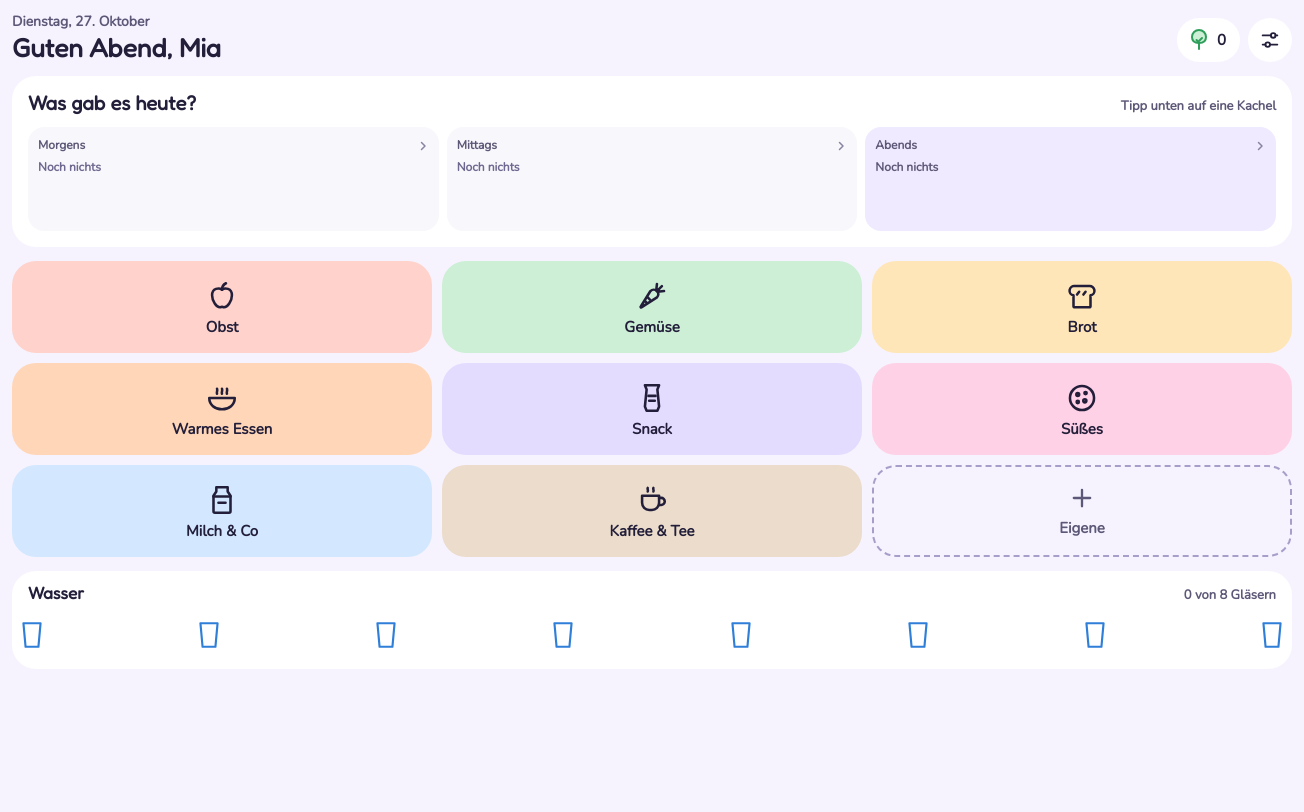
Test: TodayView › undo in the toast removes the entry again
This screenshot has width=1304, height=812.
Click the button "Gemüse" at (652,307), box [442,261,862,353]
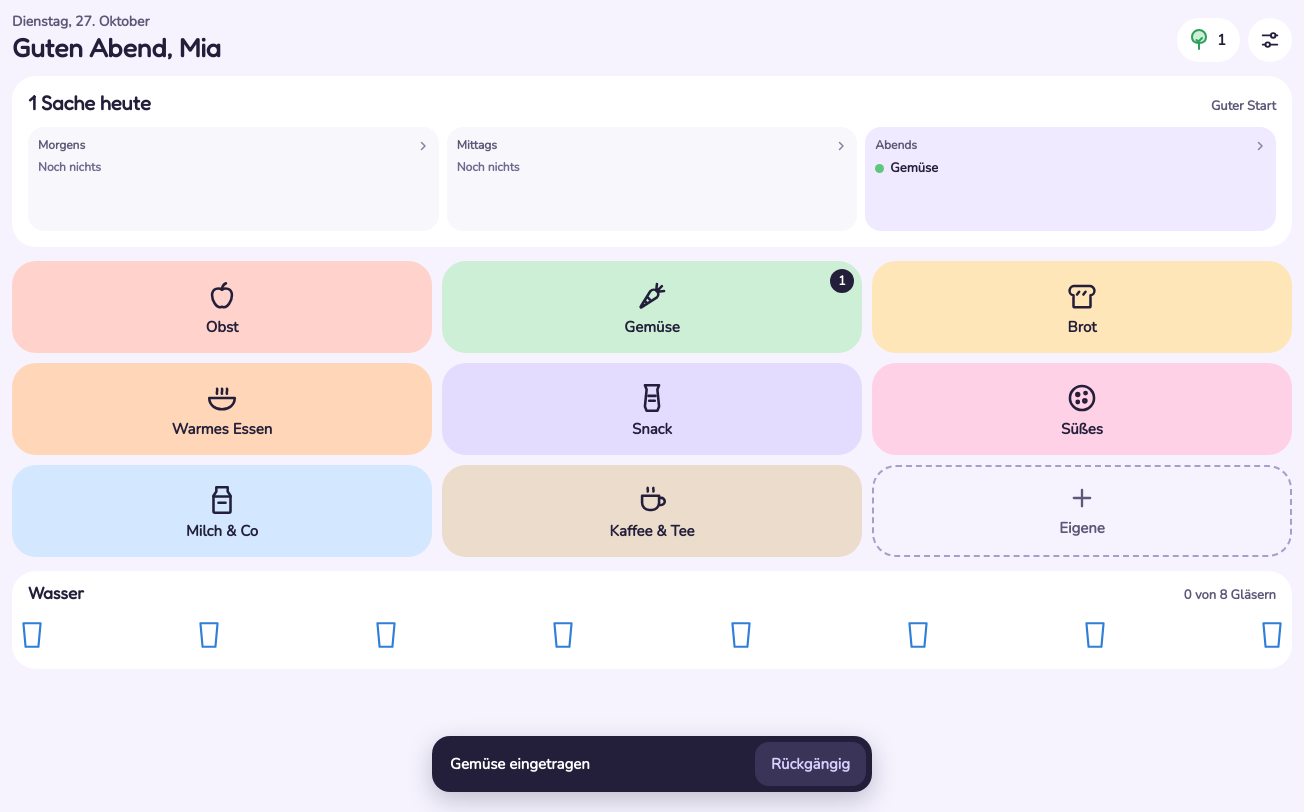
Now the button with class "toast__action" reads "Rückgängig"
Now the button with class "toast__action" is shown
Click the button with class "toast__action" at (810,764), box [755,742,866,786]
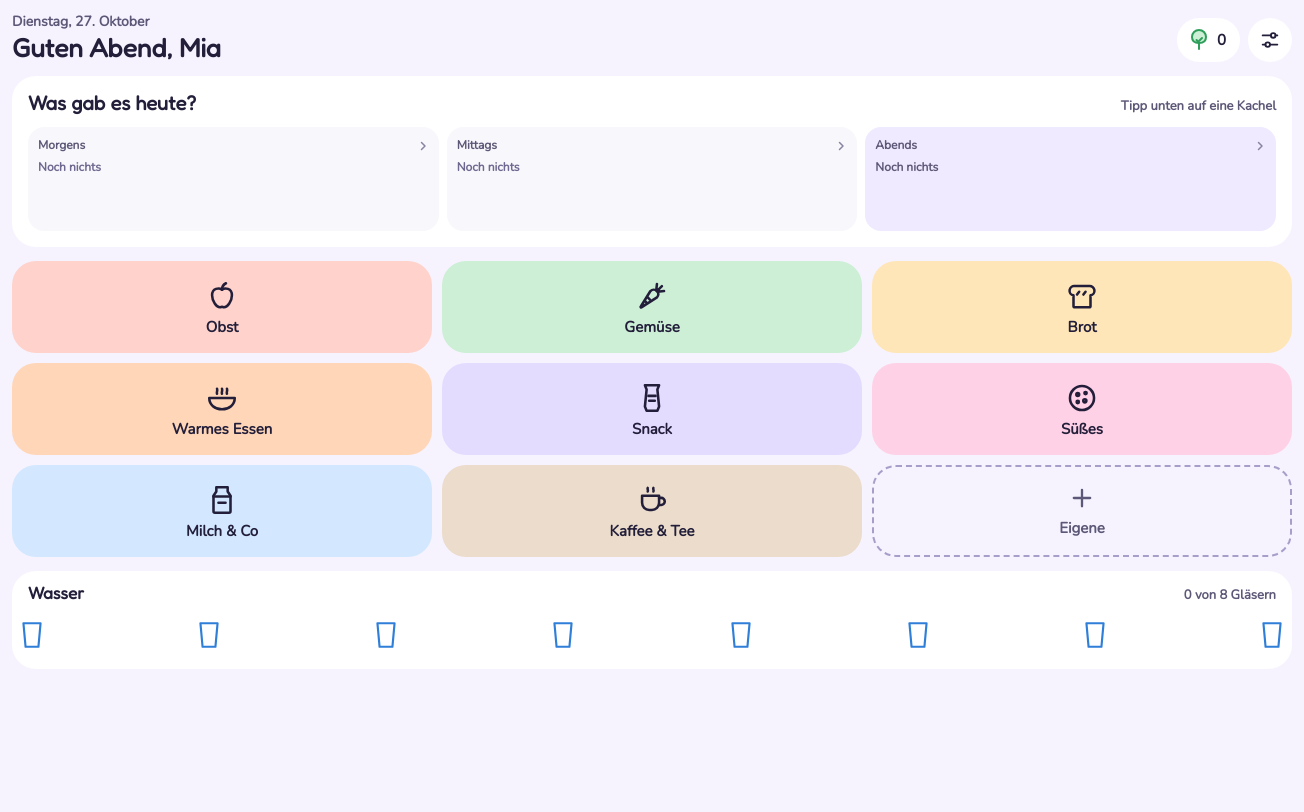
Now the text with class "toast__text" is gone
Now the text with test id "tile-badge" is gone
